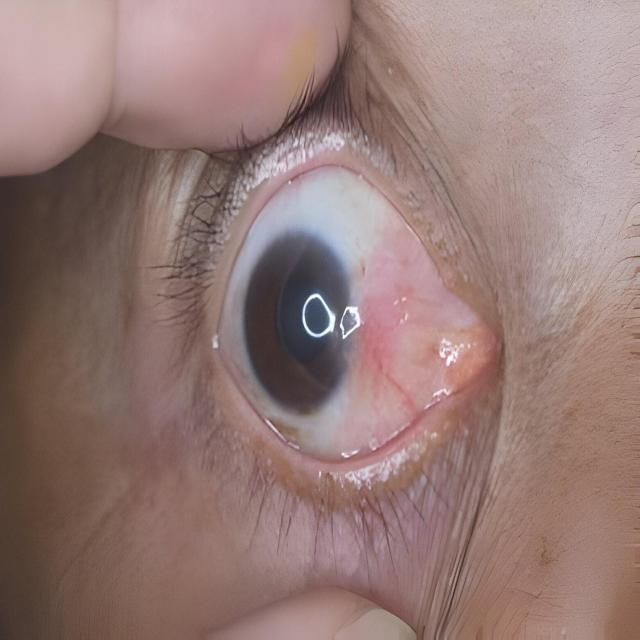Pterygium: (337, 217, 484, 445)
